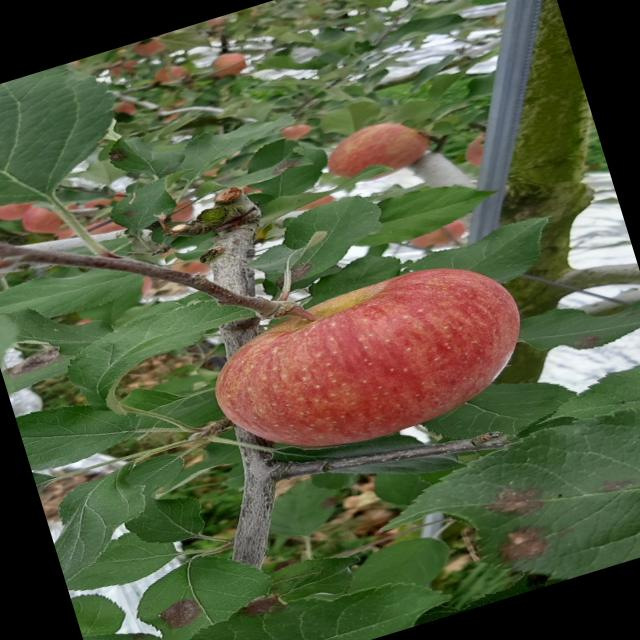fresh: (180, 235, 558, 493)
